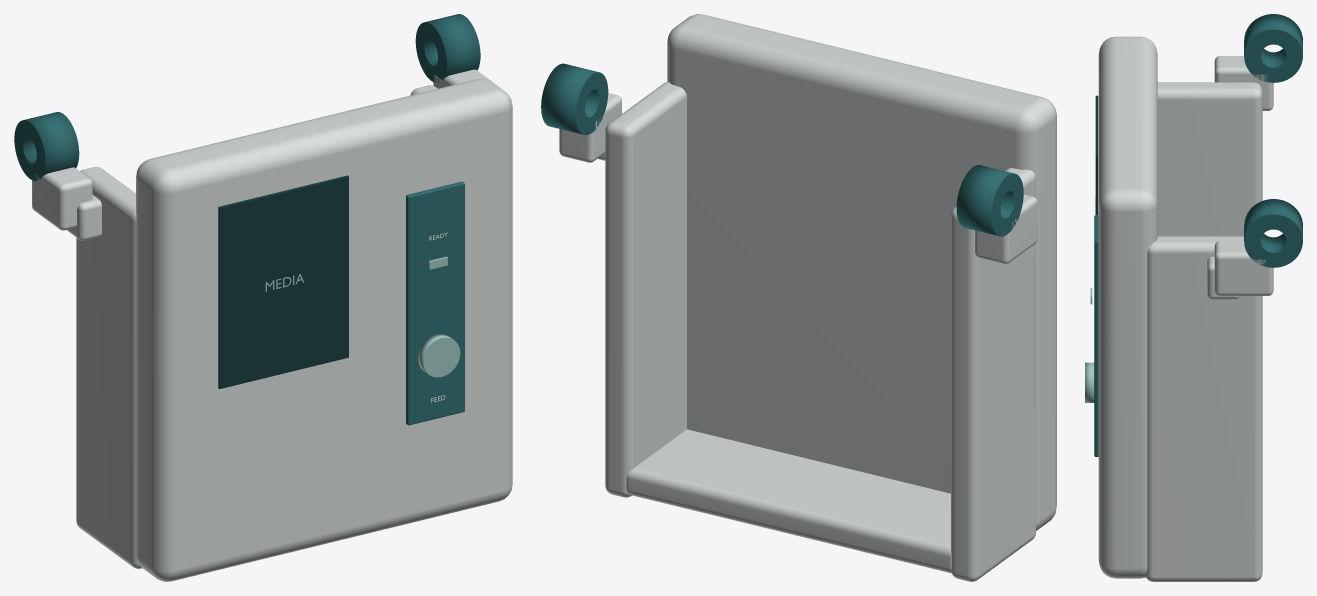
The model's file is media_cover.glb.
3 views of the same model, side by side, from view 1: azimuth 30°, elevation 25°; view 2: azimuth 150°, elevation 25°; view 3: azimuth 270°, elevation 25° (orthographic). The views are drawn at different scales.
Parts seen in each view (by area): view 1: cover_top, inspection_window, cover_side.001, status_panel, hinge_sleeve.001, hinge_sleeve, hinge_strap, feed_key, hinge_bridge; view 2: cover_top, cover_side, cover_side.001, cover_front, hinge_sleeve.001, hinge_sleeve, hinge_strap, hinge_strap.001; view 3: cover_side, cover_top, cover_side.001, hinge_sleeve.001, hinge_sleeve, hinge_strap.001, hinge_strap, status_panel, inspection_window, hinge_bridge.001, feed_key.
Part boxes in pixels (left/top/right/bottom): cover_top: left=136, top=78, right=512, bottom=581; inspection_window: left=218, top=175, right=348, bottom=388; cover_side.001: left=76, top=166, right=142, bottom=568; status_panel: left=406, top=181, right=464, bottom=425; hinge_sleeve.001: left=14, top=112, right=79, bottom=180; hinge_sleeve: left=415, top=14, right=480, bottom=82; hinge_strap: left=32, top=167, right=92, bottom=230; feed_key: left=418, top=334, right=460, bottom=377; hinge_bridge: left=67, top=195, right=101, bottom=240; cover_top: left=667, top=14, right=1056, bottom=530; cover_side: left=605, top=81, right=686, bottom=497; cover_side.001: left=951, top=168, right=1035, bottom=581; cover_front: left=626, top=429, right=951, bottom=573; hinge_sleeve.001: left=956, top=165, right=1023, bottom=236; hinge_sleeve: left=541, top=63, right=608, bottom=134; hinge_strap: left=975, top=194, right=1037, bottom=263; hinge_strap.001: left=559, top=93, right=621, bottom=162; cover_side: left=1145, top=236, right=1262, bottom=581; cover_top: left=1098, top=36, right=1157, bottom=578; cover_side.001: left=1157, top=82, right=1262, bottom=236; hinge_sleeve.001: left=1244, top=14, right=1302, bottom=82; hinge_sleeve: left=1244, top=199, right=1302, bottom=267; hinge_strap.001: left=1214, top=241, right=1273, bottom=295; hinge_strap: left=1214, top=56, right=1273, bottom=110; status_panel: left=1094, top=215, right=1098, bottom=456; inspection_window: left=1095, top=95, right=1098, bottom=214; hinge_bridge.001: left=1207, top=256, right=1239, bottom=299; feed_key: left=1085, top=362, right=1094, bottom=402.
Bounding box in the file's own units: 0.258 × 0.244 × 0.1185.
